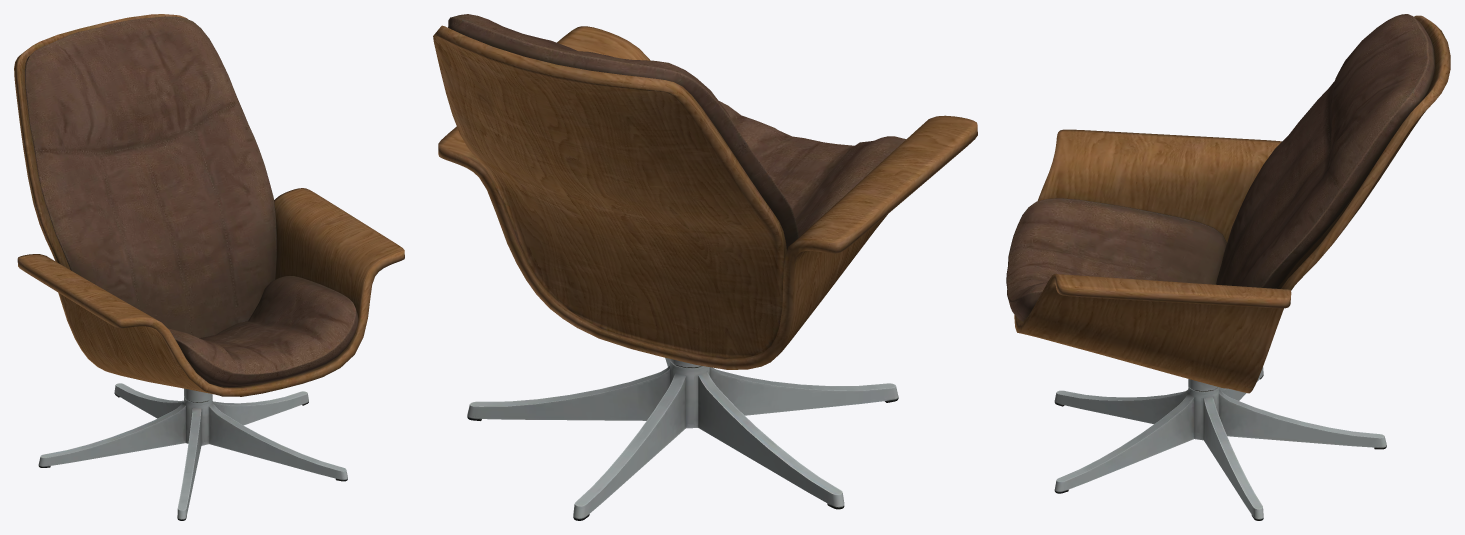
Rendered from lounger.glb.
The picture shows the model from 3 angles, left to right: view 1: azimuth 30°, elevation 25°; view 2: azimuth 150°, elevation 25°; view 3: azimuth 270°, elevation 25°; orthographic projection. The views are drawn at different scales.
Parts seen in each view (by area): view 1: mid_century_lounge_chair; view 2: mid_century_lounge_chair; view 3: mid_century_lounge_chair.
Part boxes in pixels (bbox=[...]): mid_century_lounge_chair: bbox=[14, 14, 404, 520]; mid_century_lounge_chair: bbox=[433, 14, 977, 520]; mid_century_lounge_chair: bbox=[1006, 14, 1450, 520].
Size of the model in its own units: 1.01 by 1.17 by 1.19.
1 material, 1 textured.
